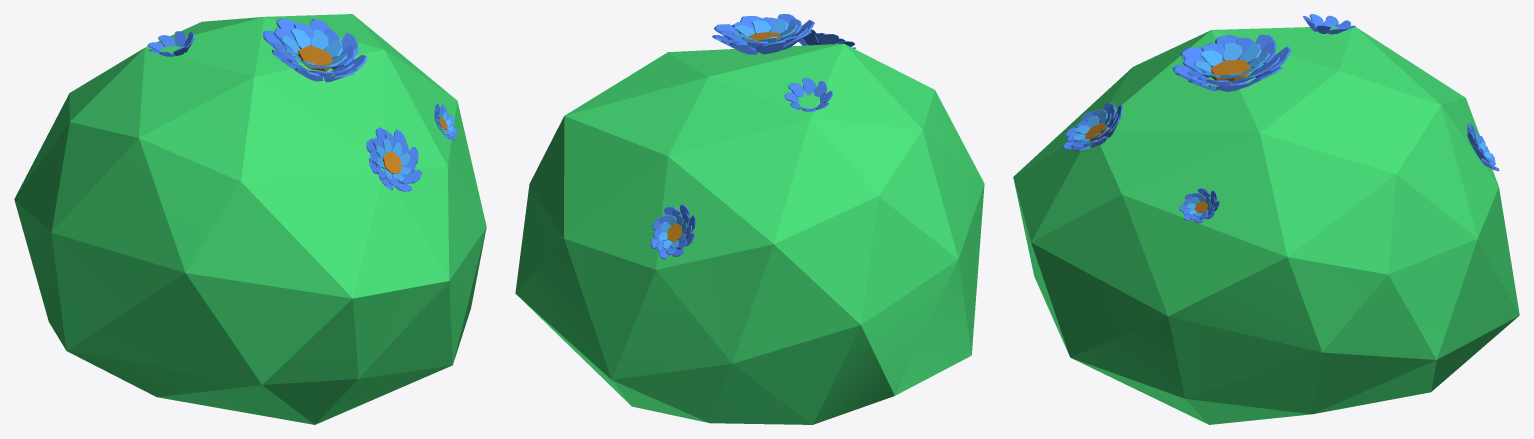
File: zbun2.fbx
The picture shows the model from 3 angles, left to right: view 1: azimuth 30°, elevation 25°; view 2: azimuth 150°, elevation 25°; view 3: azimuth 270°, elevation 25°; orthographic projection.
Visible parts, largest first — view 1: zbunsuma2; view 2: zbunsuma2; view 3: zbunsuma2.
Boxes of the visible parts, box(x1,y1,x2,y2) form: zbunsuma2: box(14, 14, 486, 424); zbunsuma2: box(515, 14, 984, 424); zbunsuma2: box(1013, 14, 1519, 424).
Size of the model in its own units: 119 by 101 by 129.
